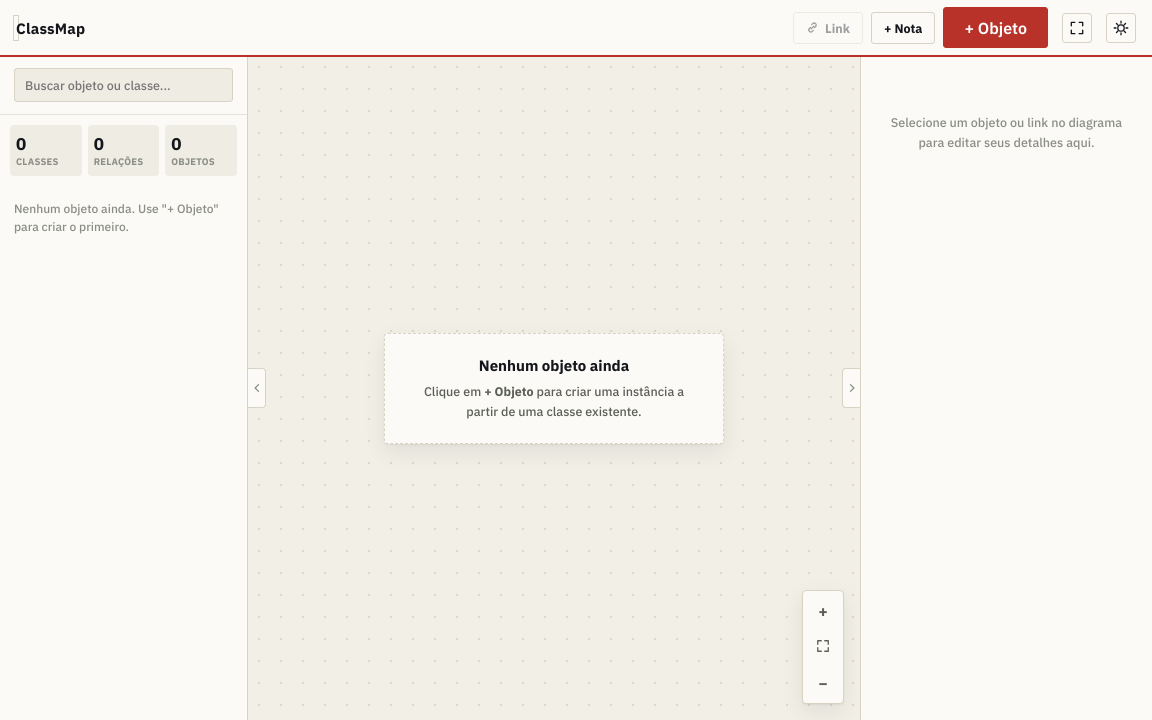
ObjectDiagramCanvas › CA-03: inspector edita nome da instância e valores dos atributos (paridade com o painel antigo)
Click the button "+ Objeto" at (996, 28), box [943, 7, 1048, 48]
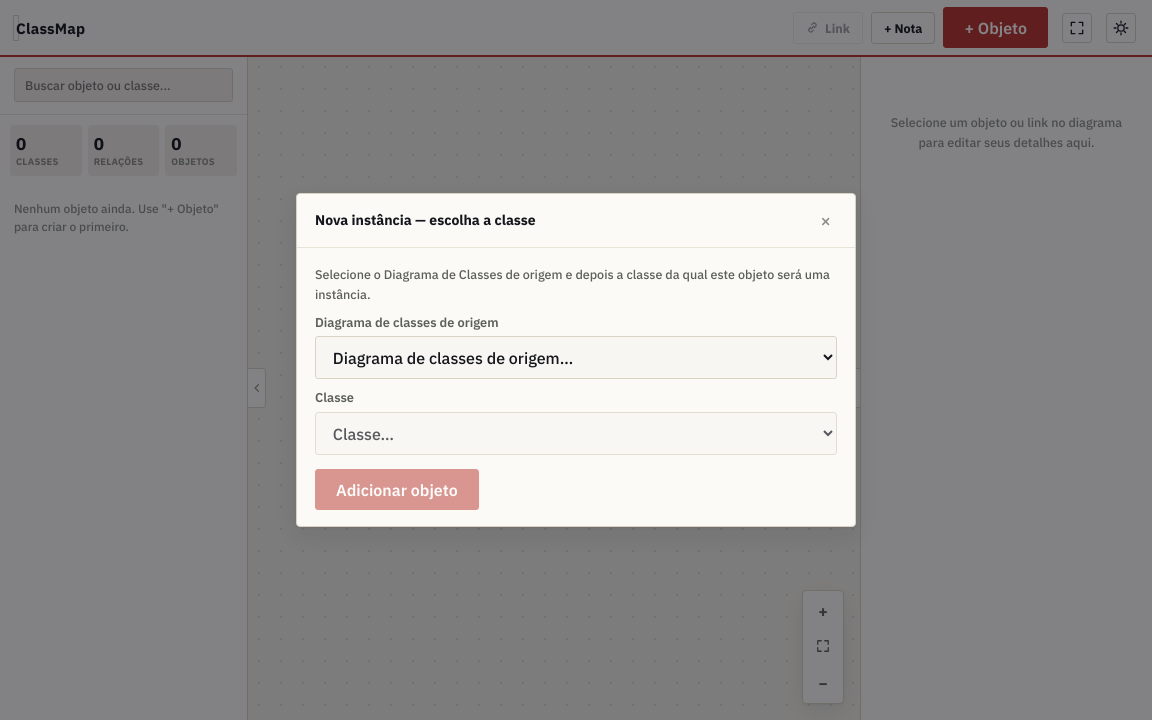
Select "Diagrama de Classes" in the dropdown showing "Diagrama de classes de origem…" at (576, 358), box [315, 336, 837, 379]
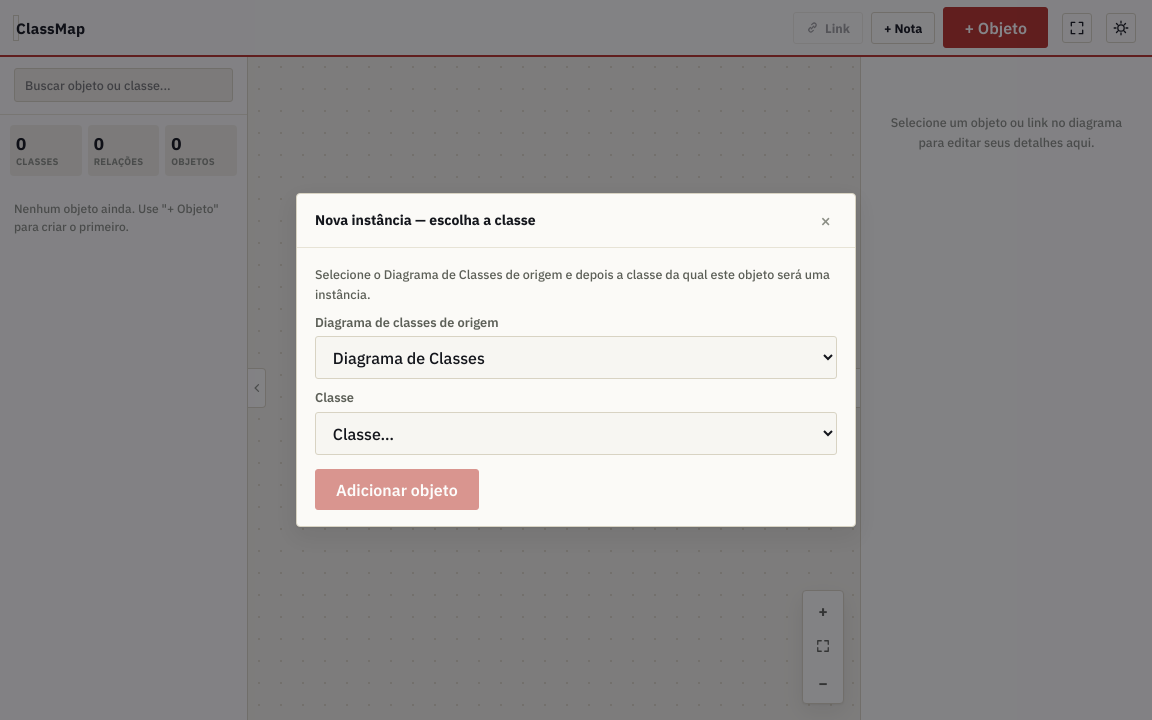
Select "Pedido" in the dropdown showing "Classe…" at (576, 434), box [315, 412, 837, 455]
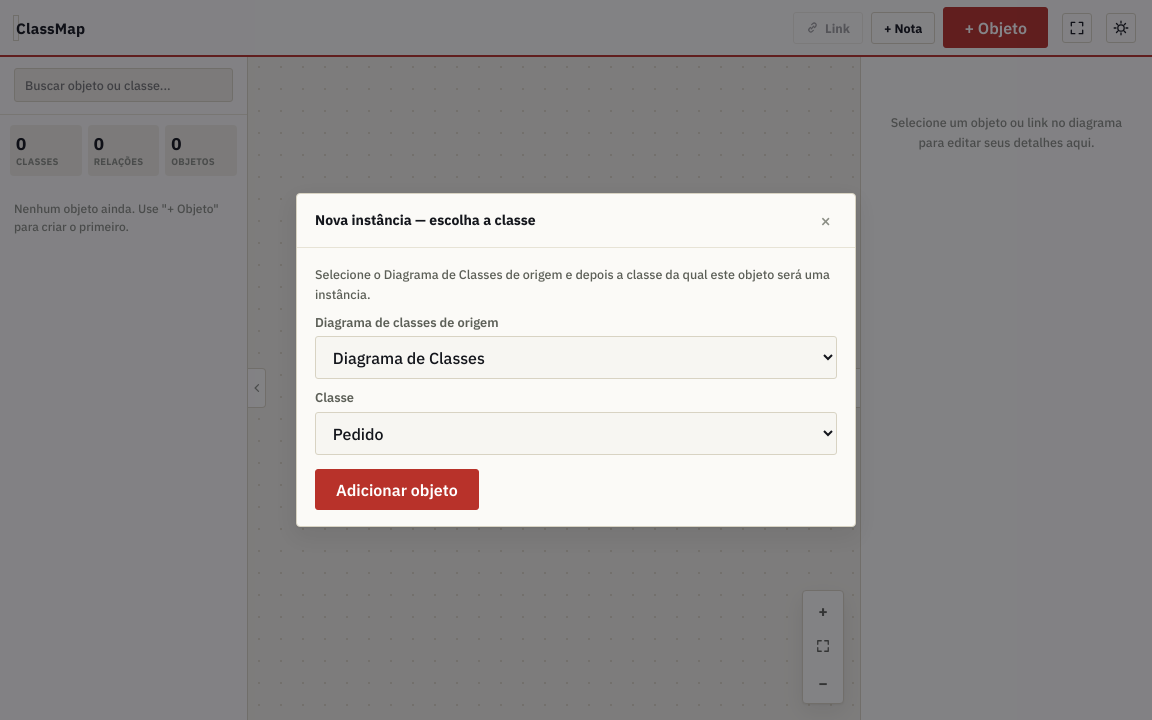
Click the button "Adicionar objeto" at (397, 490), box [315, 469, 479, 510]
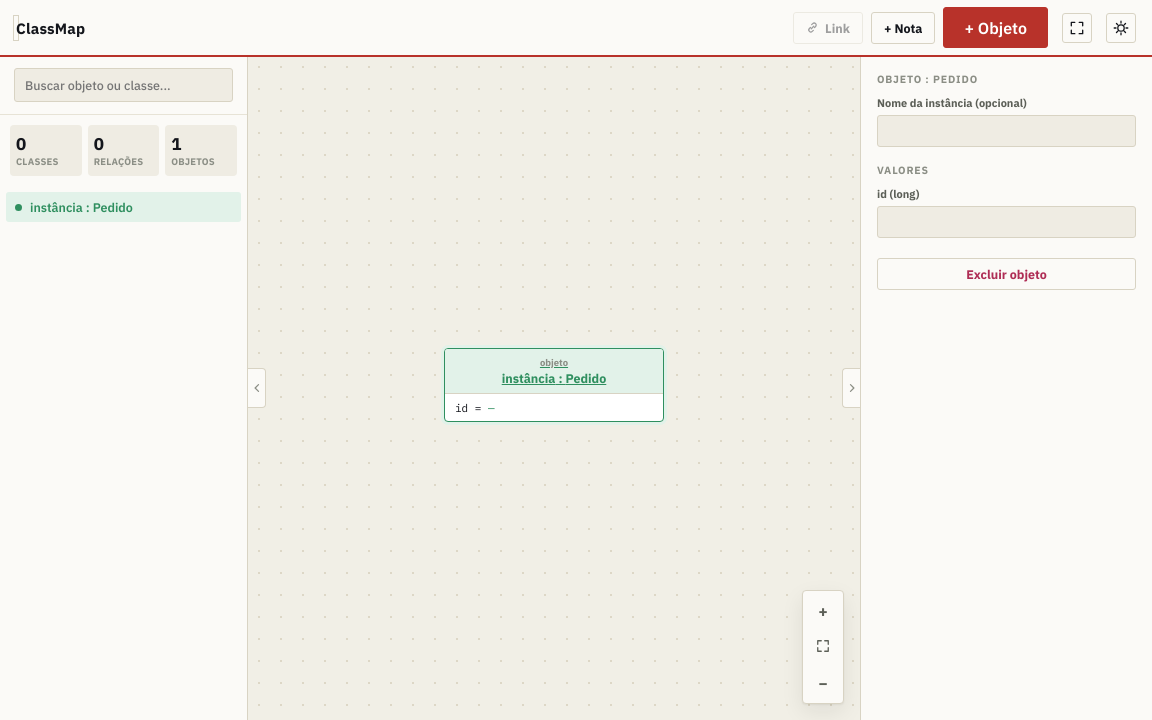
Press the mouse on the button with class "node-box" at (554, 385), box [444, 348, 664, 422]
Type "pedido1" into the field labelled "Nome da instância (opcional)" at (1006, 131), box [877, 115, 1136, 147]
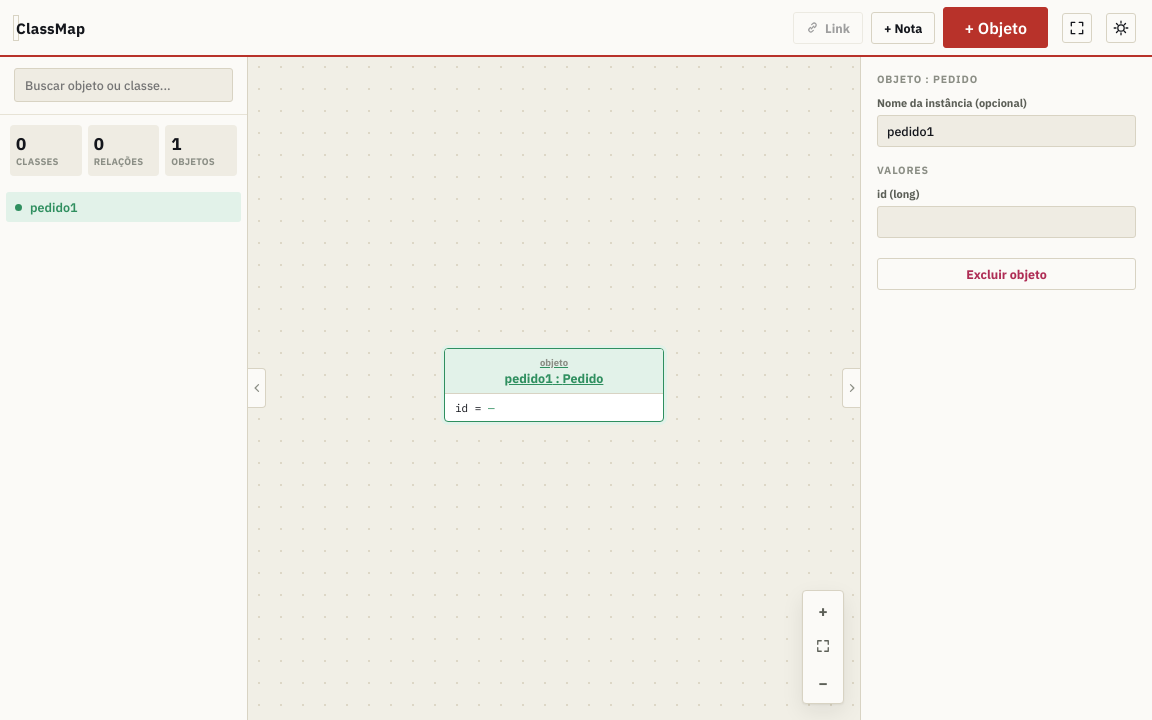
Type "42" into the field labelled "id (long)" at (1006, 222), box [877, 206, 1136, 238]
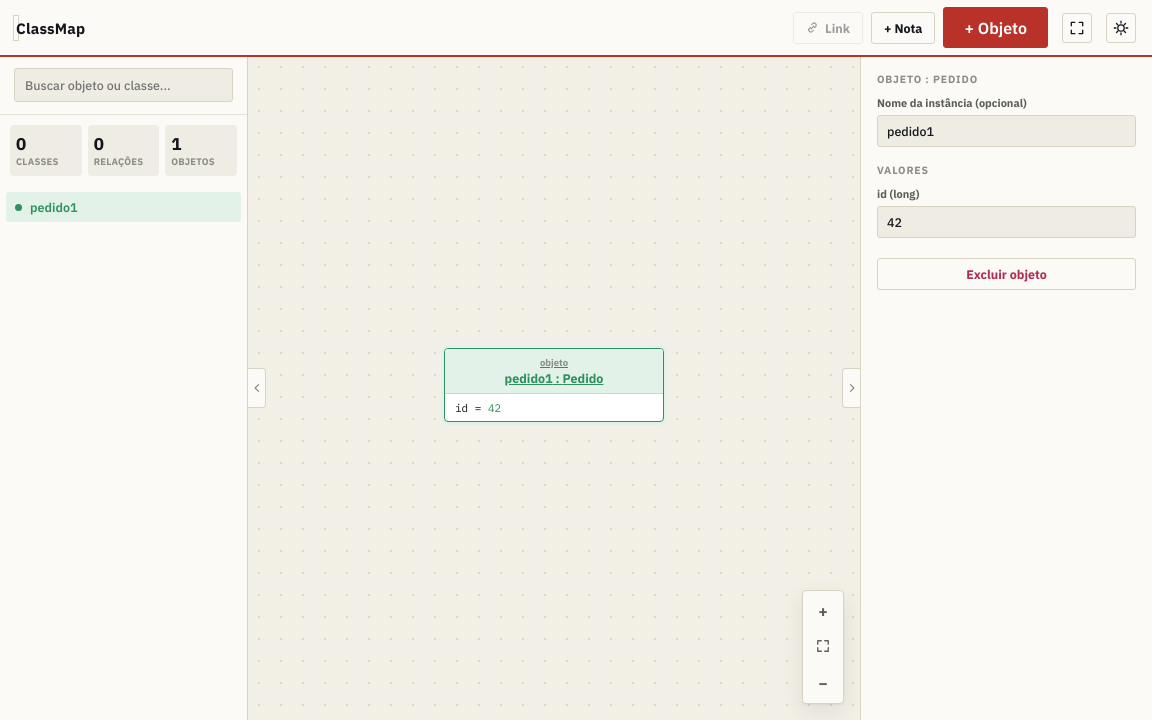
Expected: the text "objeto pedido1 : Pedido" is shown, [445, 349, 663, 394]
Expected: the text "42" is shown, [488, 400, 501, 414]
